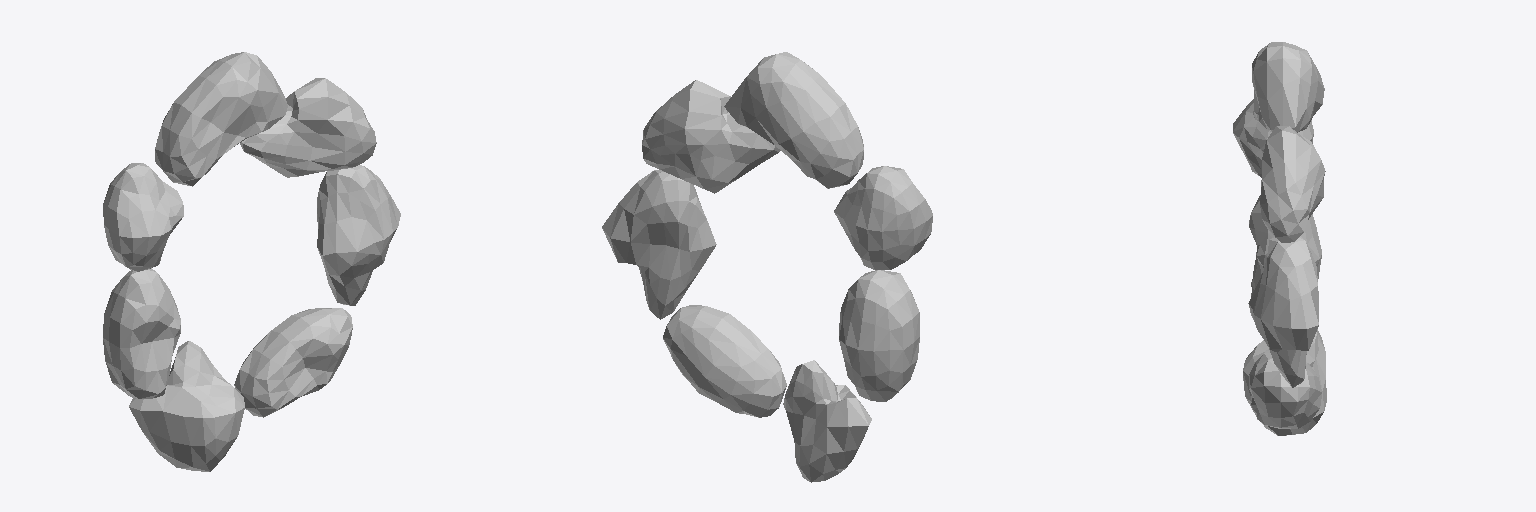
Rendered from caillou_feu.obj.
The picture shows the model from 3 angles: view 1: azimuth 30°, elevation 25°; view 2: azimuth 150°, elevation 25°; view 3: azimuth 270°, elevation 25°; orthographic projection.
Parts seen in each view (by area): view 1: Cube.007_Cube.008, Cube.009_Cube.005, Cube.008_Cube.007, Cube.010_Cube.011, Cube.011_Cube.002, Cube.005_Cube.014, Cube.006_Cube.013; view 2: Cube.007_Cube.008, Cube.010_Cube.011, Cube.008_Cube.007, Cube.011_Cube.002, Cube.005_Cube.014, Cube.006_Cube.013, Cube.009_Cube.005; view 3: Cube.010_Cube.011, Cube.008_Cube.007, Cube.007_Cube.008, Cube.011_Cube.002, Cube.009_Cube.005, Cube.006_Cube.013, Cube.005_Cube.014.
Boxes of the visible parts, x1,y1,x2,y2 form: Cube.007_Cube.008: [155, 52, 287, 186]; Cube.009_Cube.005: [129, 341, 244, 471]; Cube.008_Cube.007: [240, 78, 376, 177]; Cube.010_Cube.011: [317, 165, 400, 305]; Cube.011_Cube.002: [234, 308, 352, 417]; Cube.005_Cube.014: [103, 268, 180, 398]; Cube.006_Cube.013: [103, 163, 183, 271]; Cube.007_Cube.008: [724, 52, 863, 188]; Cube.010_Cube.011: [602, 170, 716, 319]; Cube.008_Cube.007: [642, 80, 780, 193]; Cube.011_Cube.002: [663, 305, 786, 417]; Cube.005_Cube.014: [839, 270, 919, 401]; Cube.006_Cube.013: [834, 166, 932, 269]; Cube.009_Cube.005: [783, 360, 871, 482]; Cube.010_Cube.011: [1248, 236, 1318, 387]; Cube.008_Cube.007: [1260, 126, 1325, 242]; Cube.007_Cube.008: [1252, 42, 1324, 132]; Cube.011_Cube.002: [1249, 353, 1321, 428]; Cube.009_Cube.005: [1243, 329, 1326, 435]; Cube.006_Cube.013: [1233, 99, 1313, 177]; Cube.005_Cube.014: [1249, 195, 1321, 295].
Size of the model in its own units: 0.4972 by 0.6385 by 0.1329.